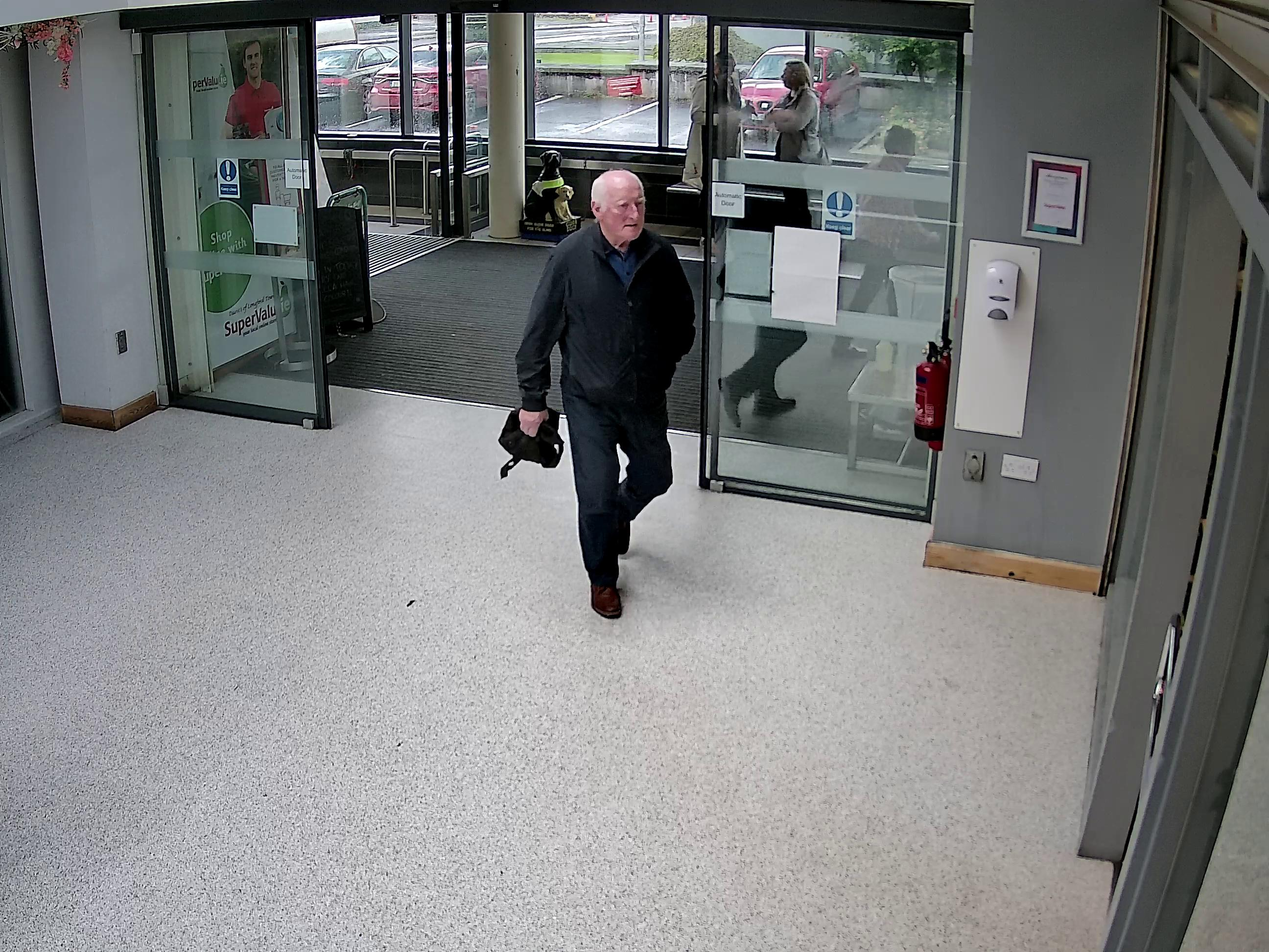empty-shopping-bags: (496, 403, 564, 477)
person: (514, 168, 697, 619)
person-with-empty-shopping-bag-s-: (497, 168, 697, 618)
